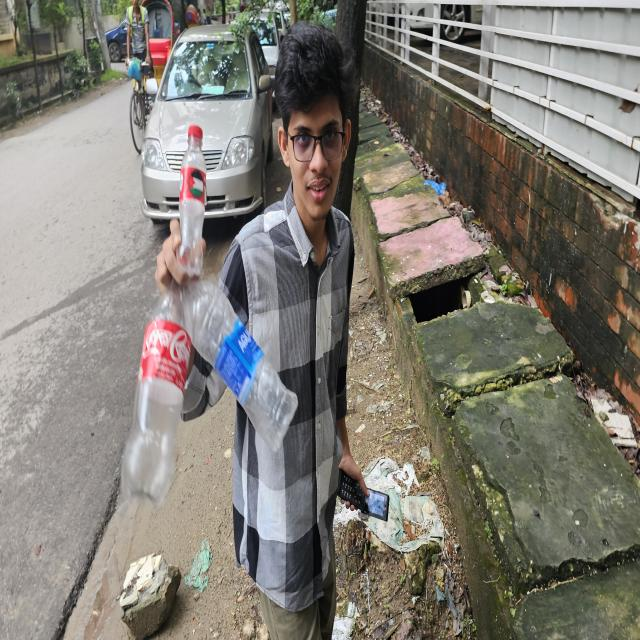drain_inlet: (393, 252, 514, 327)
